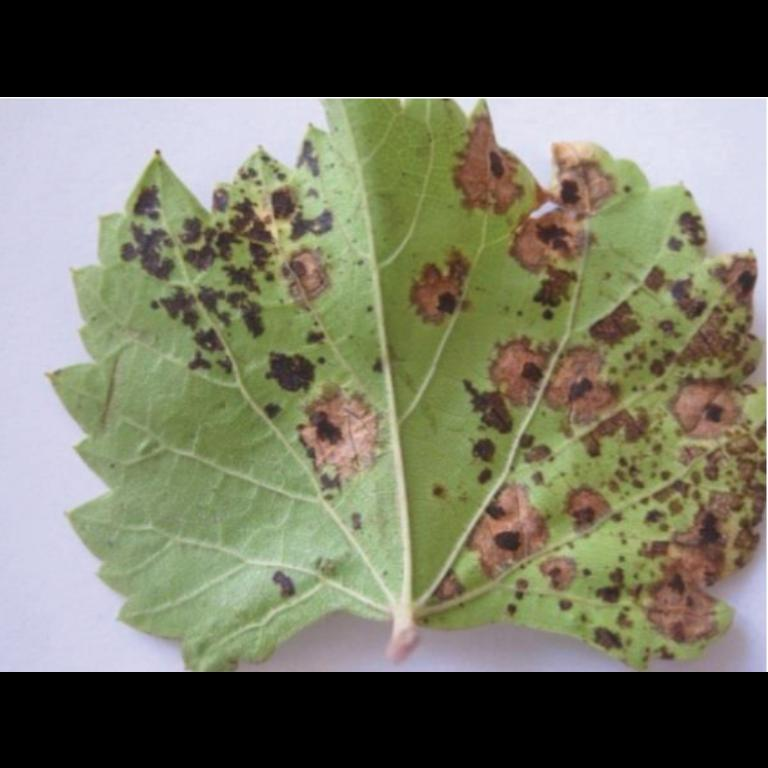blight: (442, 128, 614, 334), (468, 342, 642, 508), (268, 376, 398, 498)
